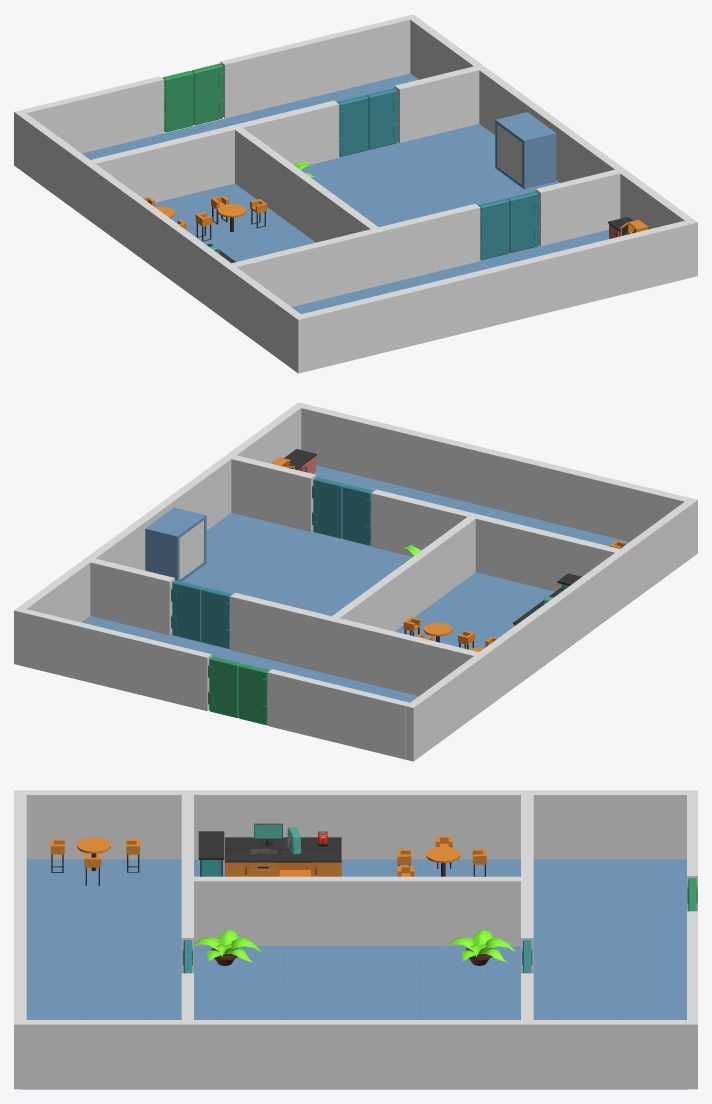
File: maps 02.fbx
The picture shows the model from 3 angles, top to bottom: view 1: azimuth 30°, elevation 25°; view 2: azimuth 150°, elevation 25°; view 3: azimuth 270°, elevation 25°; orthographic projection. The views are drawn at different scales.
Parts seen in each view (by area): view 1: polySurface144, polySurface137, polySurface135, polySurface139, polySurface140, polySurface141, polySurface136, frames_geo9, polySurface142, polySurface6 (×3), polySurface2 (×3), polySurface143 (+2 smaller); view 2: polySurface144, polySurface137, polySurface135, polySurface140, polySurface141, polySurface139, polySurface136, polySurface142, frames_geo9, polySurface6 (×3), polySurface2 (×3), polySurface143 (+3 smaller); view 3: polySurface144, polySurface136, polySurface135, frames_geo9, polySurface134, polySurface137, polySurface140, polySurface139, Imbush_geo1, Imbush_geo2, polySurface141, polySurface117 (+8 smaller).
Part boxes in pixels (bbox=[...]): polySurface144: bbox=[82, 73, 608, 314]; polySurface137: bbox=[301, 220, 689, 371]; polySurface135: bbox=[14, 110, 306, 373]; polySurface139: bbox=[232, 204, 480, 307]; polySurface140: bbox=[91, 100, 339, 202]; polySurface141: bbox=[220, 16, 410, 118]; polySurface136: bbox=[406, 14, 697, 277]; frames_geo9: bbox=[235, 128, 378, 242]; polySurface142: bbox=[22, 76, 164, 153]; polySurface6 (×3): bbox=[191, 63, 539, 252]; polySurface2 (×3): bbox=[162, 70, 509, 260]; polySurface143: bbox=[394, 66, 479, 142]; polySurface144: bbox=[81, 465, 629, 702]; polySurface137: bbox=[301, 404, 689, 541]; polySurface135: bbox=[405, 498, 697, 761]; polySurface140: bbox=[230, 592, 478, 695]; polySurface141: bbox=[22, 609, 211, 710]; polySurface139: bbox=[371, 489, 619, 591]; polySurface136: bbox=[14, 402, 305, 665]; polySurface142: bbox=[267, 669, 409, 759]; frames_geo9: bbox=[332, 516, 475, 631]; polySurface6 (×3): bbox=[171, 477, 344, 718]; polySurface2 (×3): bbox=[201, 484, 373, 725]; polySurface143: bbox=[90, 558, 174, 635]; polySurface144: bbox=[21, 859, 688, 1089]; polySurface136: bbox=[14, 1020, 697, 1089]; polySurface135: bbox=[14, 790, 697, 859]; frames_geo9: bbox=[193, 876, 520, 945]; polySurface134: bbox=[225, 849, 341, 876]; polySurface137: bbox=[14, 795, 26, 1019]; polySurface140: bbox=[521, 795, 533, 973]; polySurface139: bbox=[181, 795, 193, 973]; Imbush_geo1: bbox=[445, 929, 515, 965]; Imbush_geo2: bbox=[194, 928, 261, 965]; polySurface141: bbox=[687, 911, 697, 1019]; polySurface117: bbox=[198, 831, 224, 876].
Size of what is drawn, in the model's own units: 69.23 by 9.28 by 85.35.
11 materials, 10 textured.
